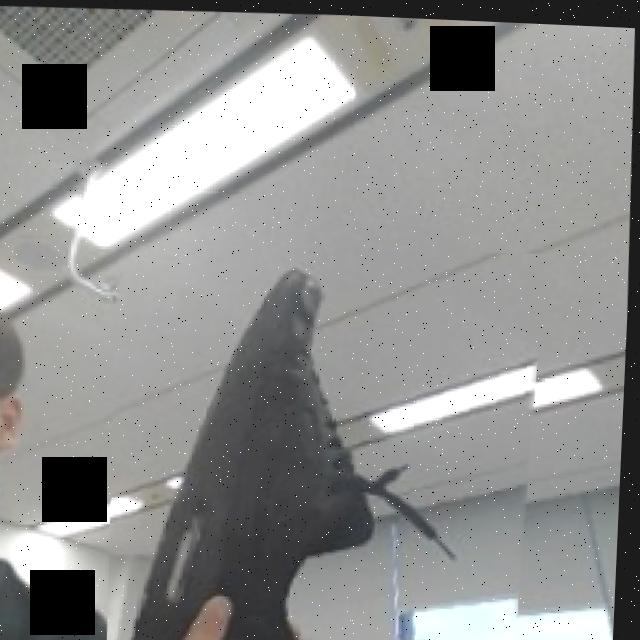shoe: (105, 233, 555, 640)
